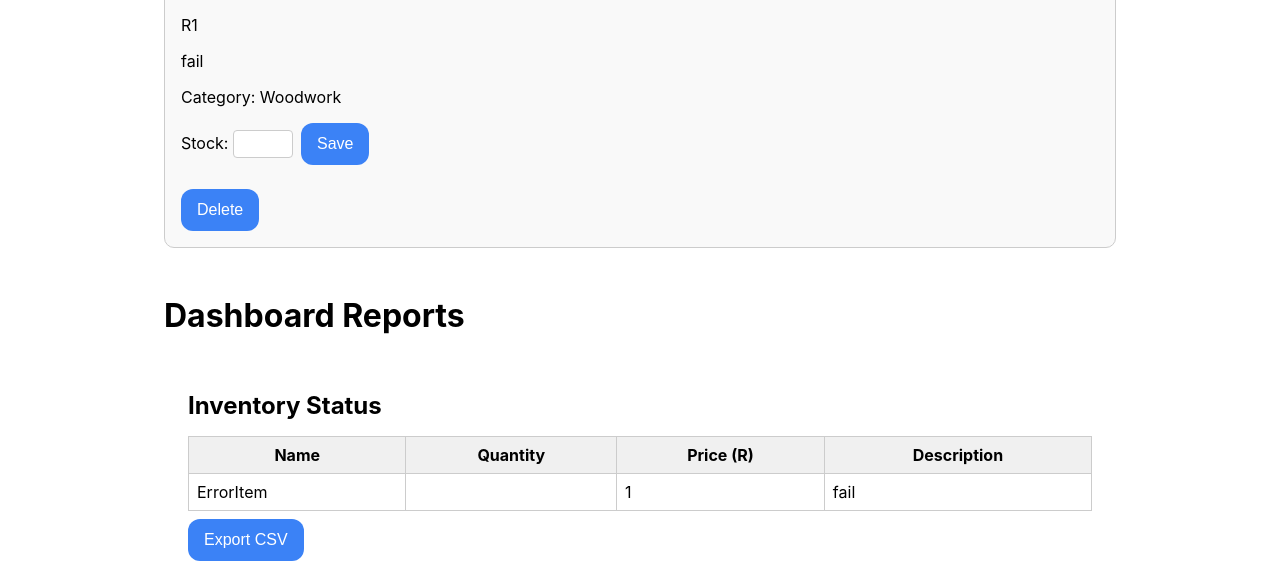
Given deleteDoc fails, When deleting, Then show failure error
(page scrolled)
Click the button "Delete".
click(220, 210)  # box [181, 189, 259, 231]
(page scrolled)
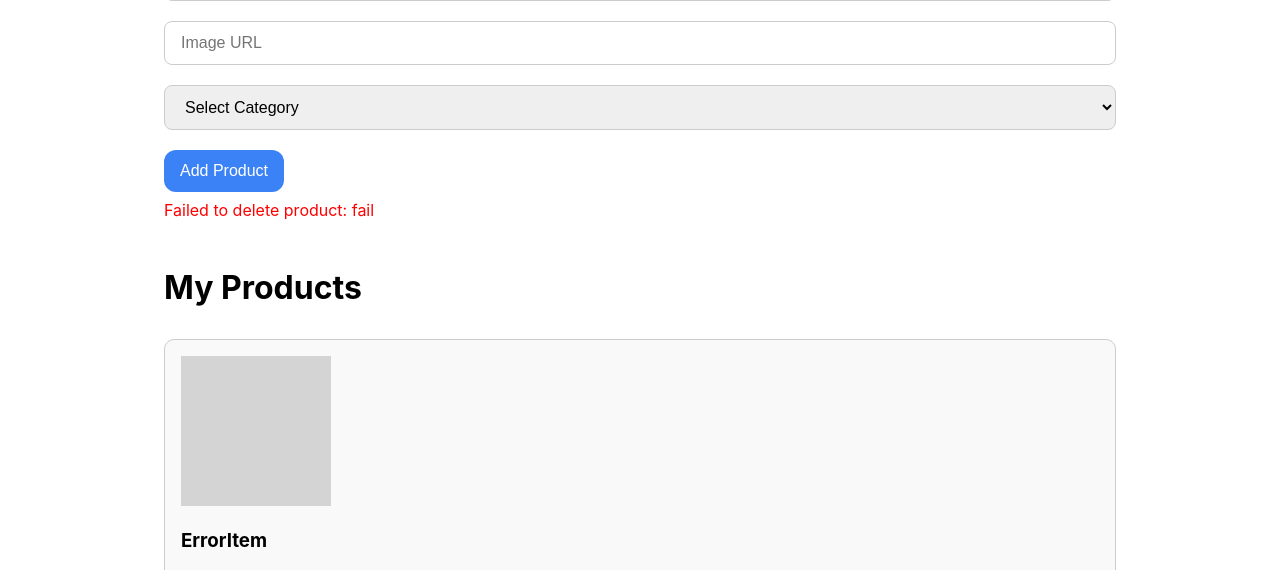
Now the text "Failed to delete product: fail" is shown, box [164, 200, 374, 220]
